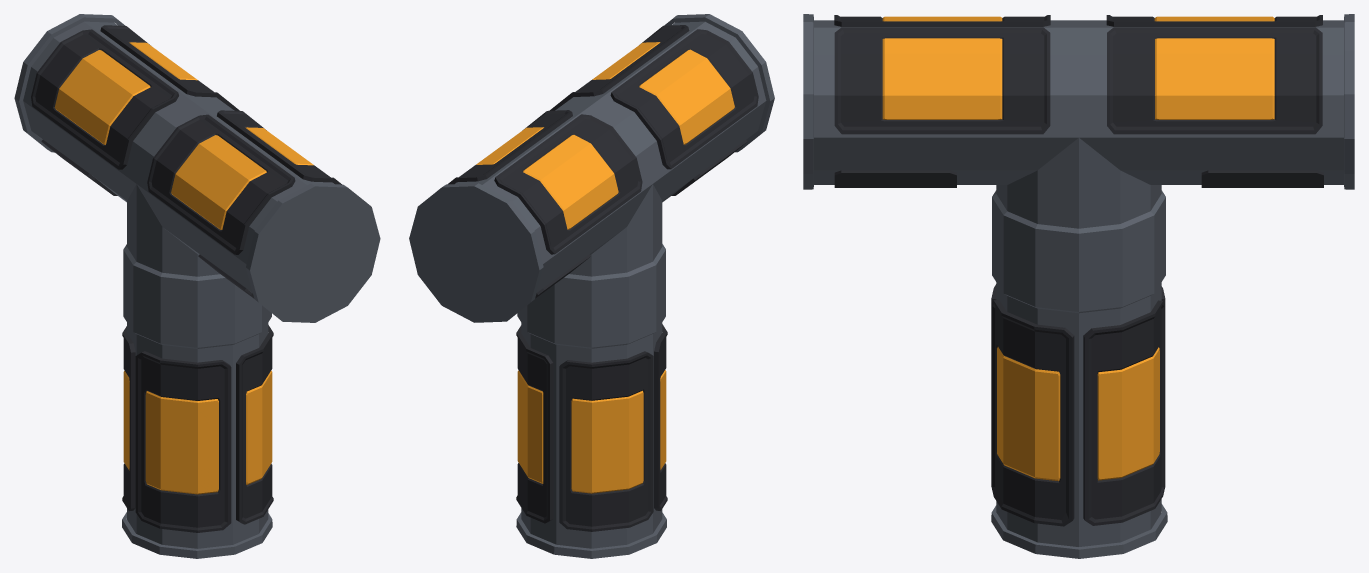
File: SM_T-shaped_pipe.glb
The picture shows the model from 3 angles, left to right: view 1: azimuth 30°, elevation 25°; view 2: azimuth 150°, elevation 25°; view 3: azimuth 270°, elevation 25°; orthographic projection. The views are drawn at different scales.
Parts seen in each view (by area): view 1: SM_T-shaped_pipe; view 2: SM_T-shaped_pipe; view 3: SM_T-shaped_pipe.
Boxes of the visible parts, left/top/right/bottom form: SM_T-shaped_pipe: left=14, top=14, right=380, bottom=558; SM_T-shaped_pipe: left=409, top=14, right=774, bottom=558; SM_T-shaped_pipe: left=803, top=14, right=1354, bottom=558.
Size of the model in its own units: 0.6403 by 2 by 2.
1 material, 1 textured.
